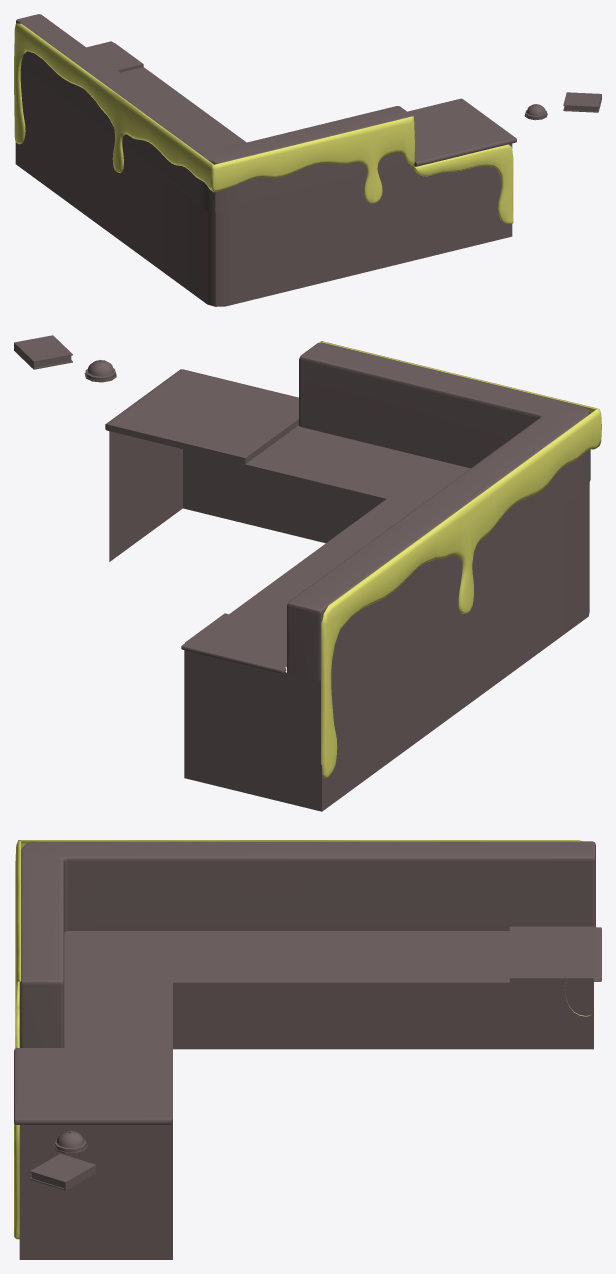
The model's file is DESKFINAL.fbx.
The picture shows the model from 3 angles, top to bottom: view 1: azimuth 30°, elevation 25°; view 2: azimuth 150°, elevation 25°; view 3: azimuth 270°, elevation 25°; orthographic projection. The views are drawn at different scales.
Parts seen in each view (by area): view 1: BigPart, SmallPArt, LongHoney2, SideHoney2, SmallHoney2, Book; view 2: BigPart, SmallPArt, LongHoney2, SideHoney2, Book; view 3: BigPart, SmallPArt, LongHoney2, Book, SmallHoney2.
Boxes of the visible parts, <box> form: BigPart: <box>15,41,516,306</box>; SmallPArt: <box>16,14,412,212</box>; LongHoney2: <box>93,79,414,203</box>; SideHoney2: <box>14,23,96,144</box>; SmallHoney2: <box>414,144,513,224</box>; Book: <box>563,92,601,112</box>; BigPart: <box>105,369,589,811</box>; SmallPArt: <box>287,342,590,680</box>; LongHoney2: <box>320,341,601,613</box>; SideHoney2: <box>321,529,437,777</box>; Book: <box>14,335,72,369</box>; BigPart: <box>14,926,601,1259</box>; SmallPArt: <box>19,841,595,1047</box>; LongHoney2: <box>15,840,360,1048</box>; Book: <box>30,1153,95,1190</box>; SmallHoney2: <box>14,1123,19,1239</box>.
Bounding box in the file's own units: 6.22 × 2.12 × 5.38.
